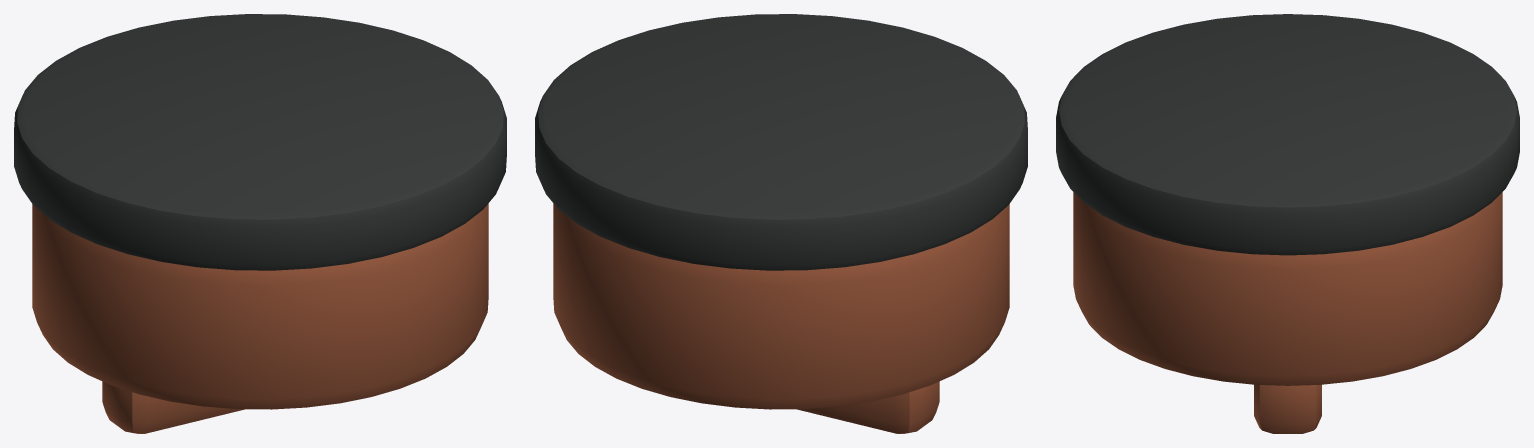
Rendered from air_fryer_timer_dial.glb.
3 views of the same model, side by side, from view 1: azimuth 30°, elevation 25°; view 2: azimuth 150°, elevation 25°; view 3: azimuth 270°, elevation 25° (orthographic). The views are drawn at different scales.
Parts seen in each view (by area): view 1: air_fryer_timer_dial_x; view 2: air_fryer_timer_dial_x; view 3: air_fryer_timer_dial_x.
Boxes of the visible parts, bbox=[...] form: air_fryer_timer_dial_x: bbox=[14, 14, 506, 433]; air_fryer_timer_dial_x: bbox=[535, 14, 1027, 433]; air_fryer_timer_dial_x: bbox=[1056, 14, 1519, 433].
Bounding box in the file's own units: 0.0475 × 0.03 × 0.0475.
